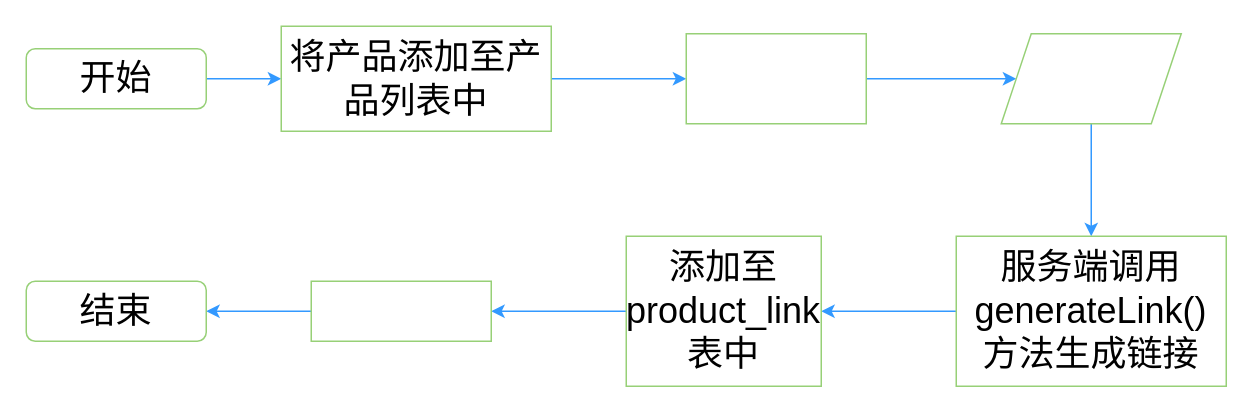
Image size: 1253x413. Some labels were removed from this diagram. The shapes that lost their labels are listed below. From the top down, each one's centre as x and y in pixels, then its label:
(775,78): 点击获取链接
(1090,78): 用户输入获取数量
(400,310): 用户推广
